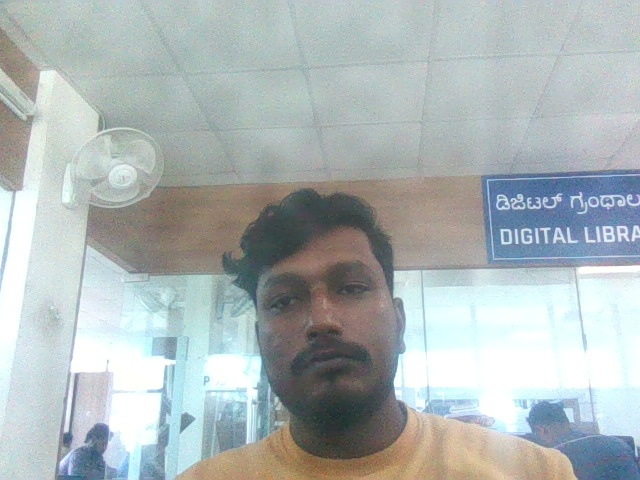real: (238, 172, 416, 425)
